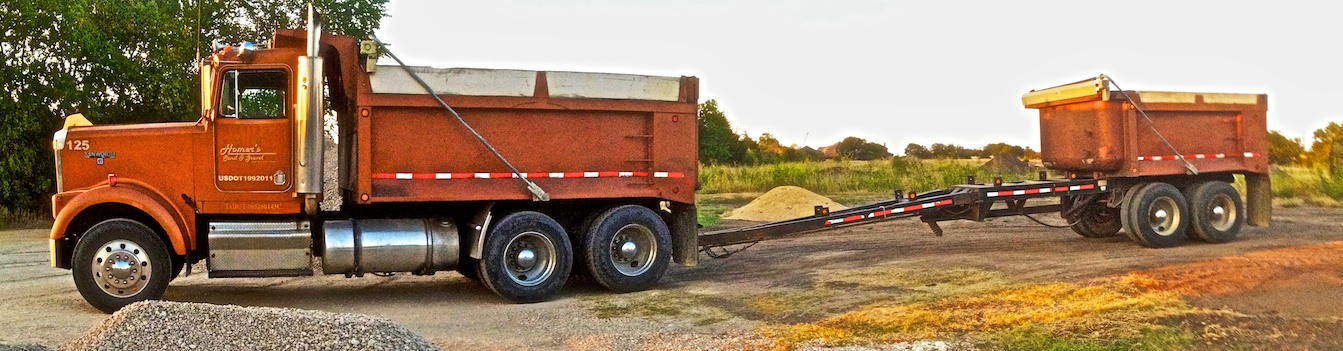truck: (42, 9, 701, 320)
